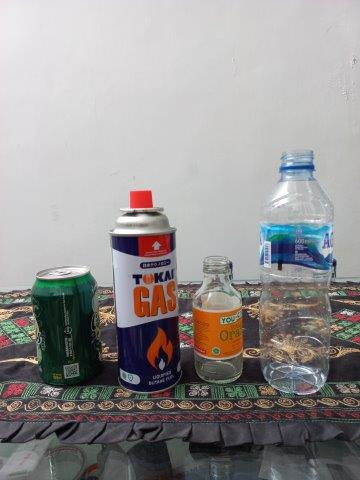botolkaca: (193, 256, 245, 384)
botolplastik: (258, 150, 335, 395)
kaleng: (110, 192, 183, 391), (31, 264, 103, 389)
